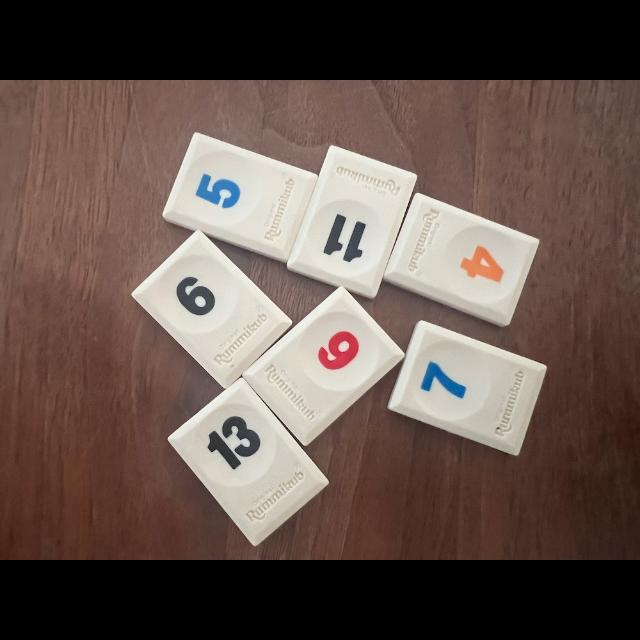black_11: (288, 146, 418, 299)
black_13: (168, 379, 329, 545)
black_6: (132, 231, 291, 388)
blue_5: (162, 132, 318, 262)
blue_7: (388, 321, 546, 455)
orange_4: (384, 194, 539, 326)
red_9: (244, 288, 404, 445)
